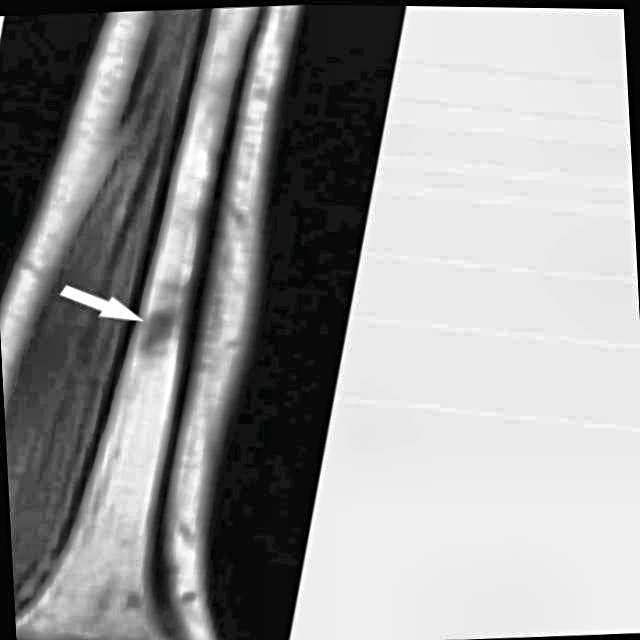Oblique Displaced: (128, 309, 211, 371)
